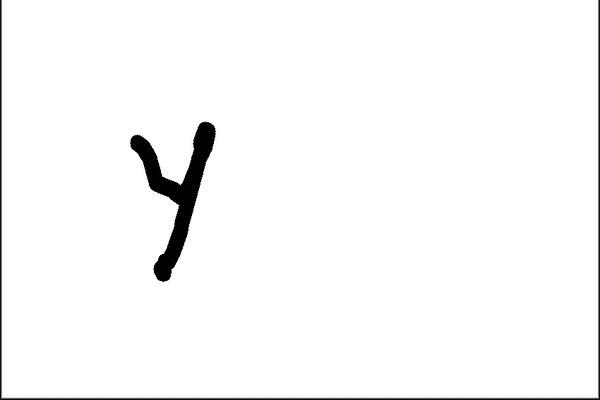Y: (118, 116, 234, 286)
